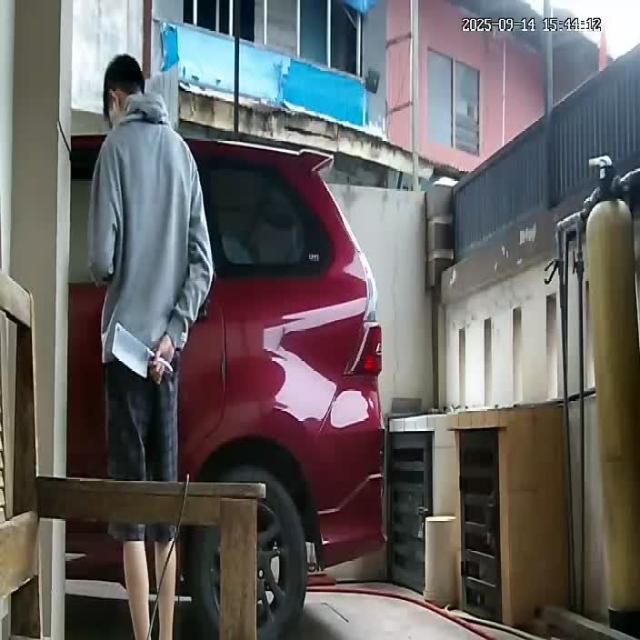senjata_tajam: (112, 321, 150, 381)
